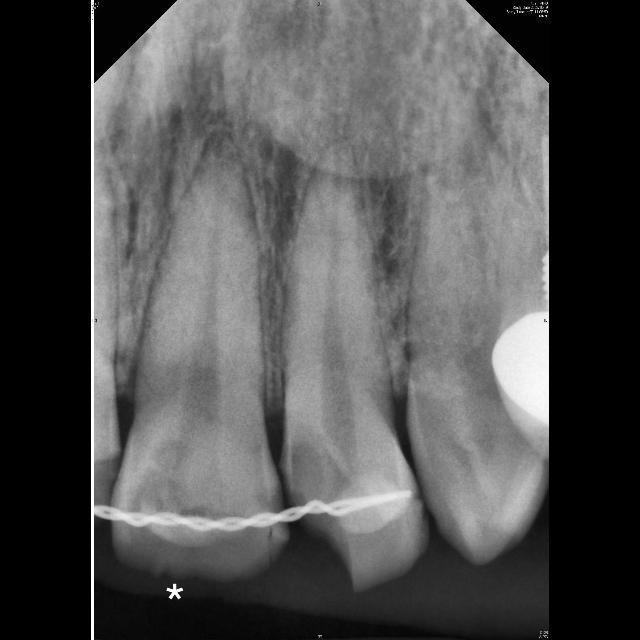test-segment: (111, 136, 292, 583)
